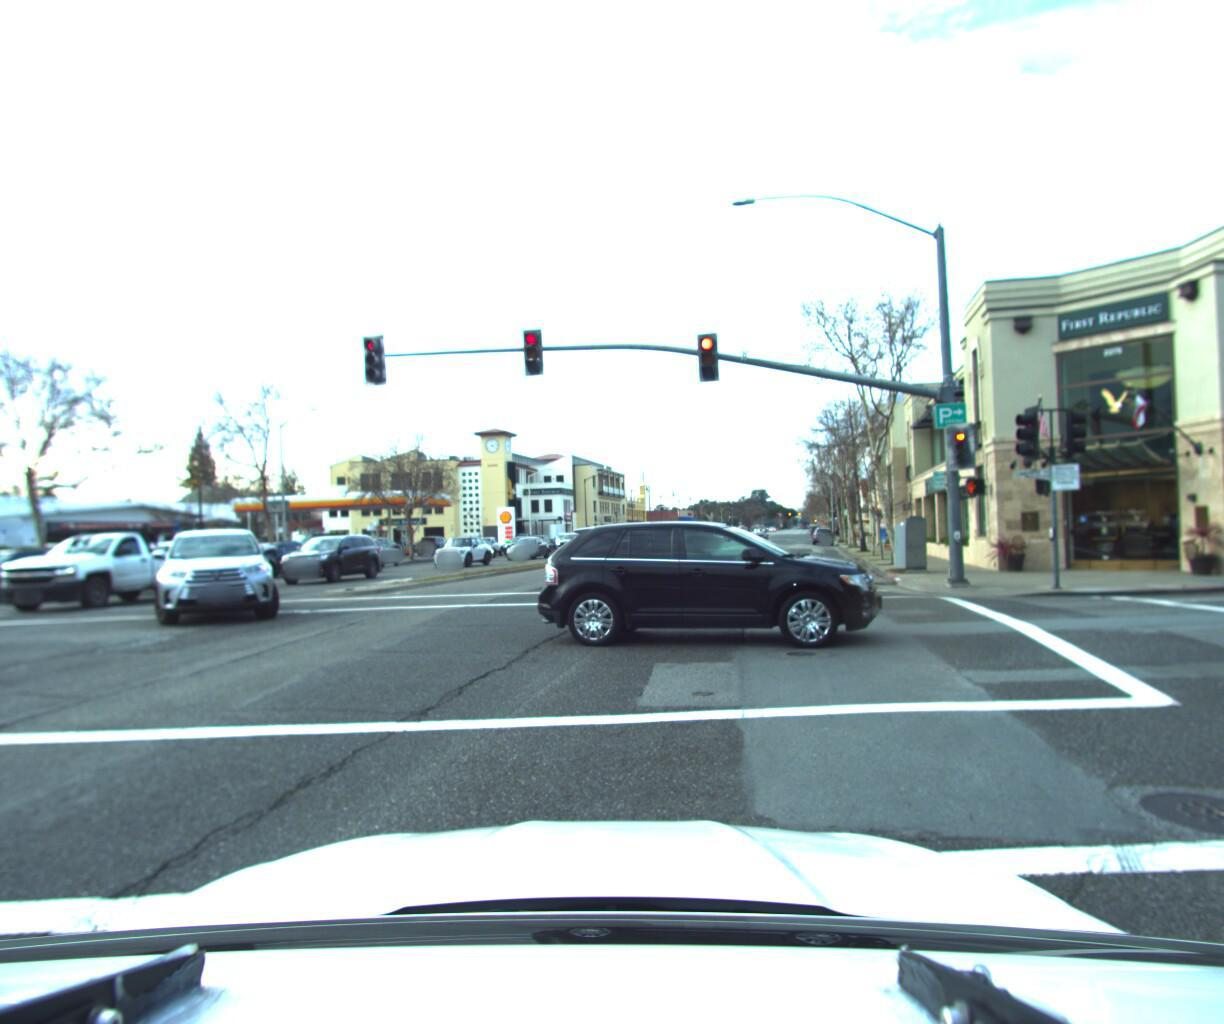car: (523, 501, 882, 648), (0, 511, 218, 618), (156, 527, 279, 637), (105, 535, 242, 593), (0, 549, 93, 613), (276, 532, 387, 585), (638, 519, 703, 576), (301, 536, 386, 575), (427, 534, 492, 569), (499, 535, 551, 560), (366, 538, 399, 568), (465, 536, 505, 559), (413, 535, 456, 556), (746, 523, 772, 545), (809, 524, 832, 545)
